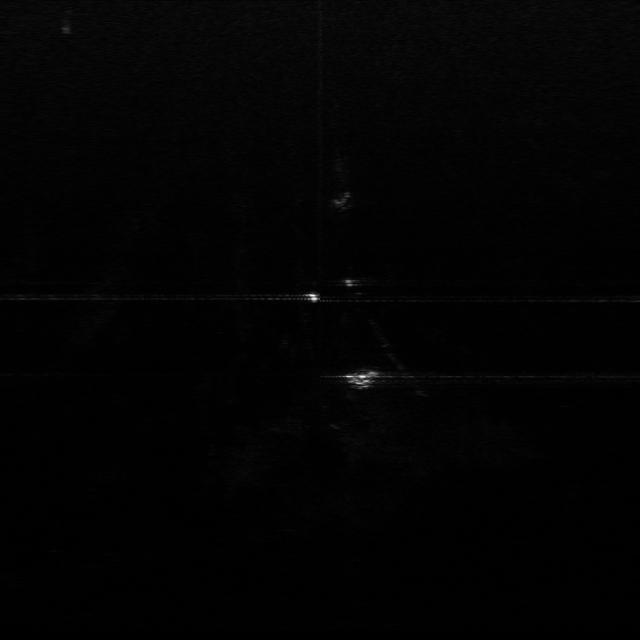rov: (344, 370, 382, 390)
